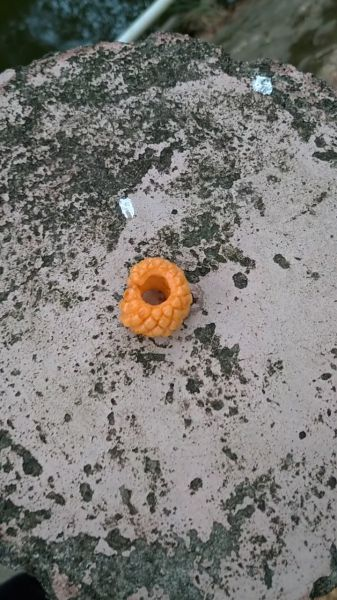eggs: (114, 249, 197, 340)
